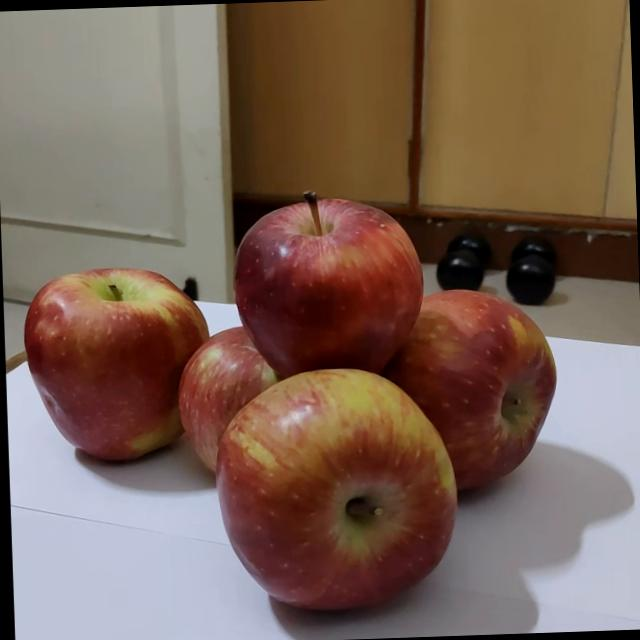apple: (184, 354, 442, 620), (352, 282, 560, 500), (11, 248, 213, 472), (210, 180, 412, 388)
